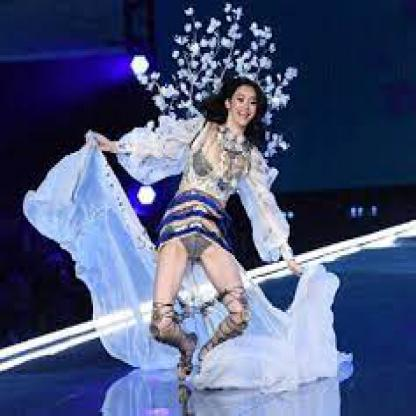Fall_Down: (85, 73, 317, 387)
